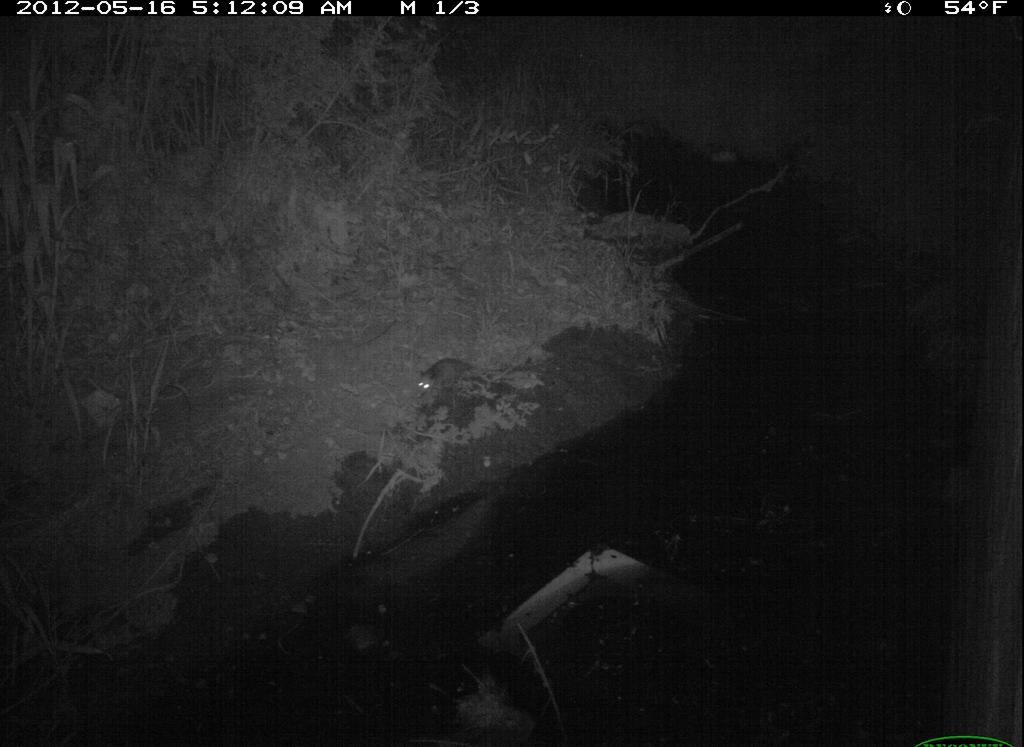opossum: (405, 342, 504, 411)
